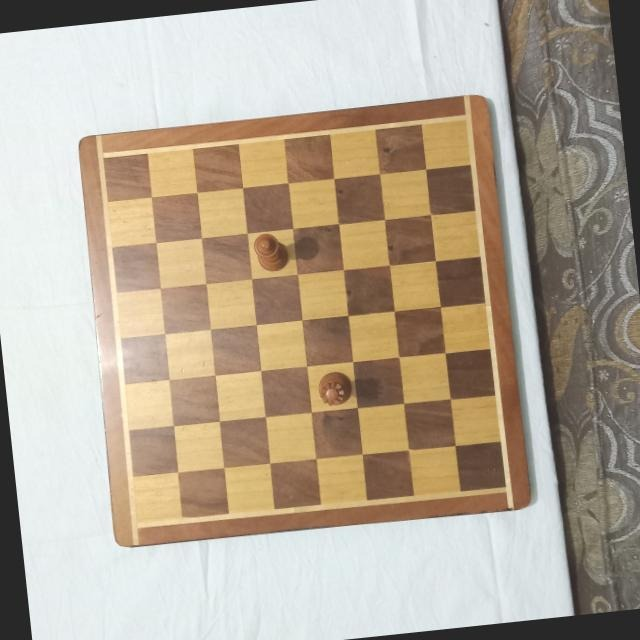white-king: (250, 229, 289, 271)
white-queen: (314, 368, 354, 408)
